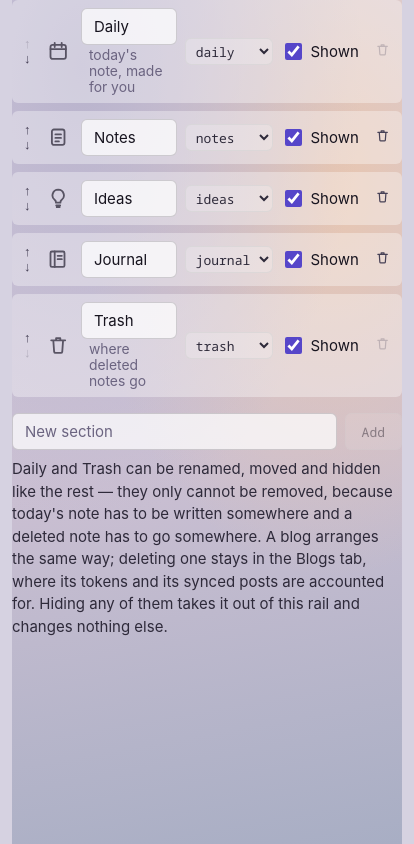
Test: SectionManager › says why a name was refused rather than doing nothing
Type "Ideas" into the field named "New section name". click: x=174, y=432
box: 12,413 -> 337,450
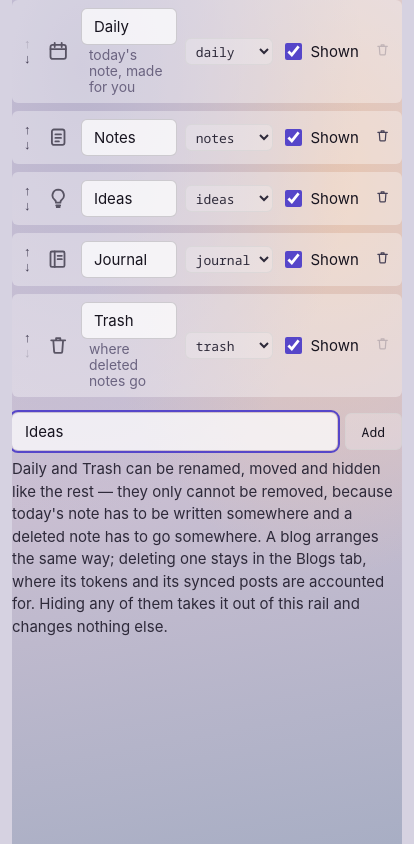
Click the button "Add". click: x=373, y=432
box: 345,413 -> 402,450
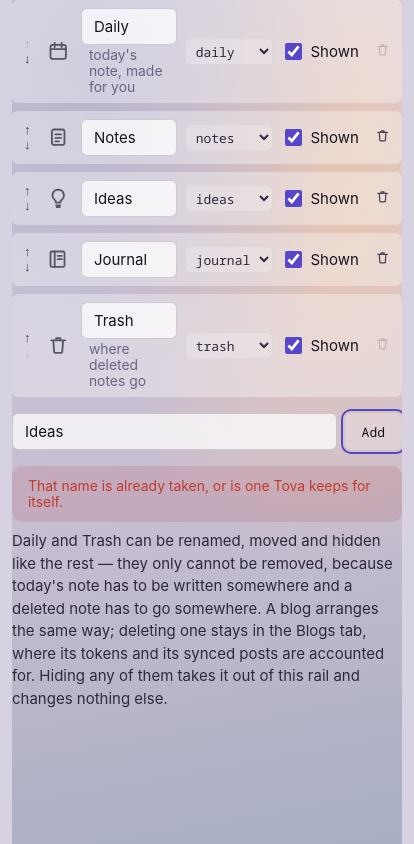
Expected: the text "That name is already taken, or is one Tova keeps for itself." is shown, 12,466 -> 402,522
